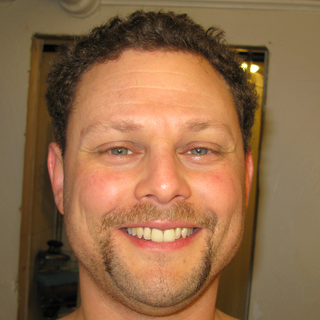eye: (87, 138, 145, 164), (175, 138, 223, 164)
